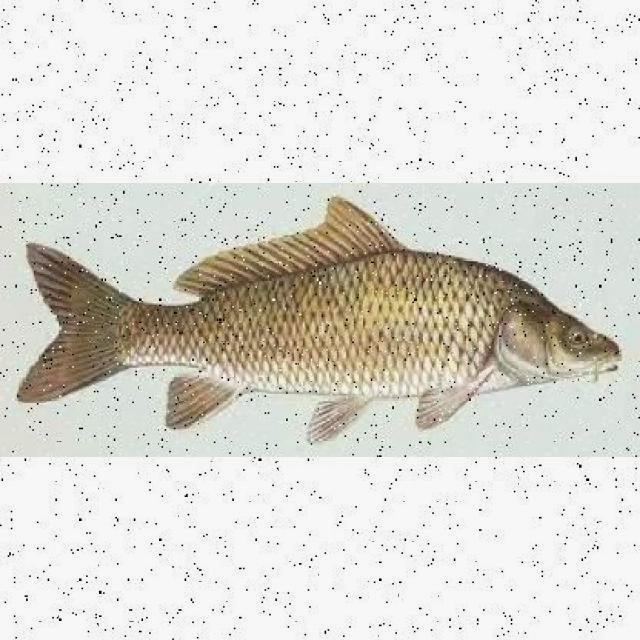ikan-mas: (14, 207, 623, 424)
